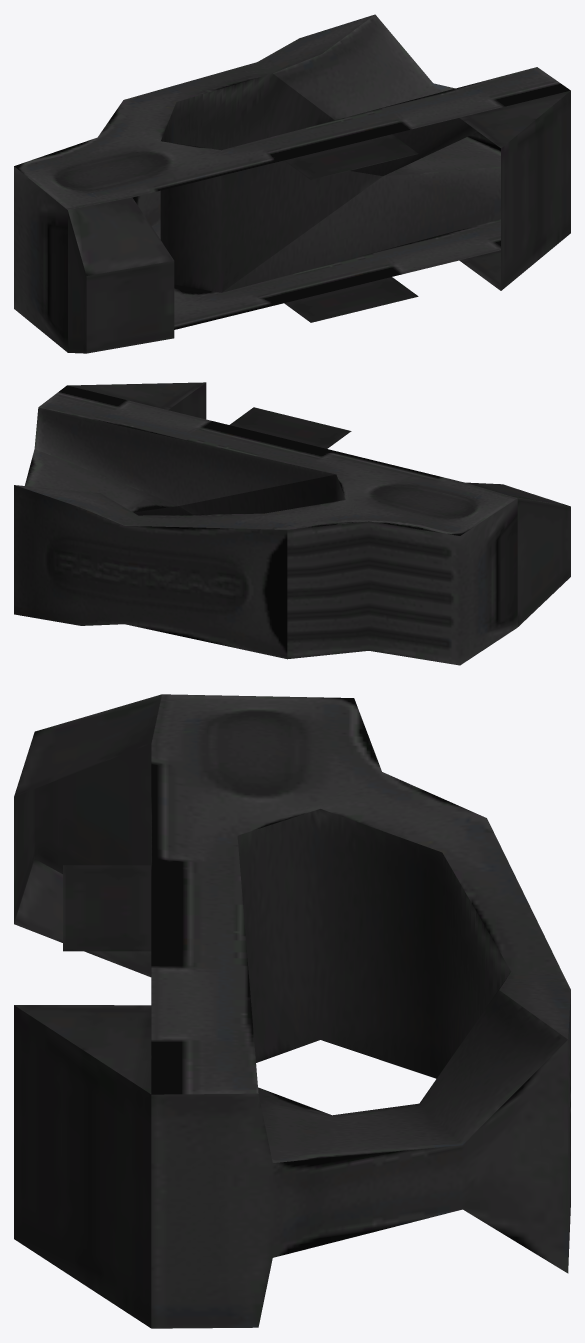
Rendered from t6_attach_fastmag_dsr50_world_LOD2.obj.
3 views of the same model, one above another, from view 1: azimuth 30°, elevation 25°; view 2: azimuth 150°, elevation 25°; view 3: azimuth 270°, elevation 25° (orthographic). The views are drawn at different scales.
Parts seen in each view (by area): view 1: mtl_t6_attach_sniper_fastmag; view 2: mtl_t6_attach_sniper_fastmag; view 3: mtl_t6_attach_sniper_fastmag.
Part boxes in pixels (bbox=[...]): mtl_t6_attach_sniper_fastmag: bbox=[14, 14, 570, 353]; mtl_t6_attach_sniper_fastmag: bbox=[14, 382, 570, 665]; mtl_t6_attach_sniper_fastmag: bbox=[14, 694, 570, 1328].
Bounding box in the file's own units: 13.71 × 3.59 × 7.75.
